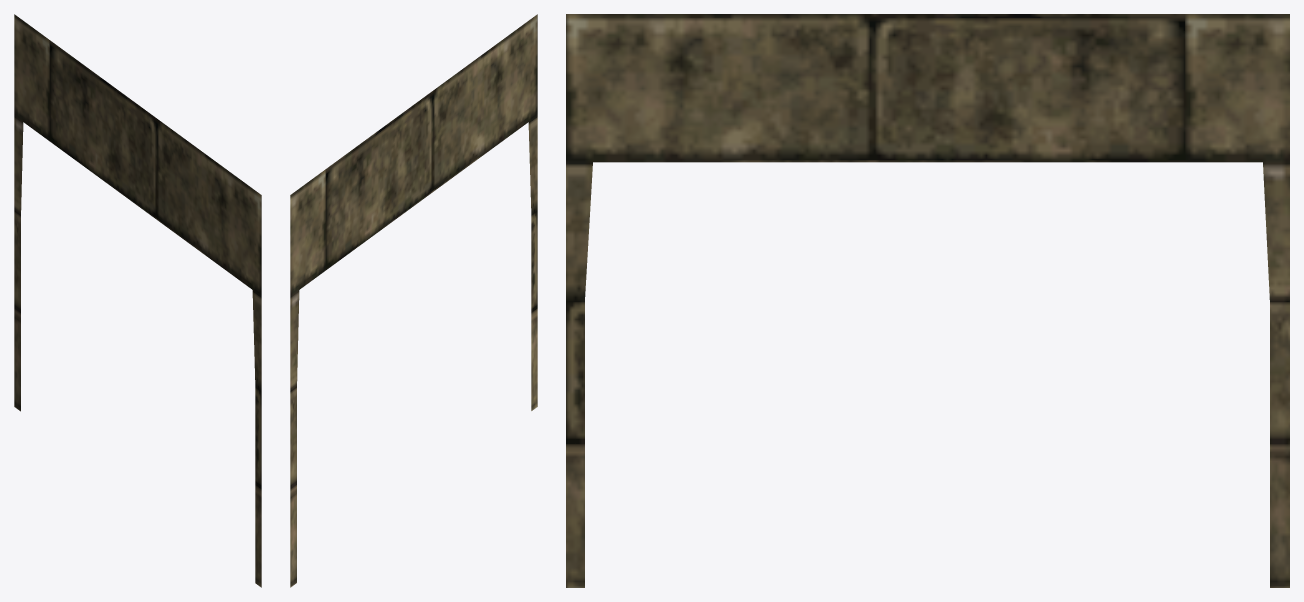
The model's file is OVERHILL_A_01_OBJECT188.fbx.
3 renders of one model, left to right at view 1: azimuth 30°, elevation 25°; view 2: azimuth 150°, elevation 25°; view 3: azimuth 270°, elevation 25°, orthographic. The views are drawn at different scales.
Visible parts, largest first — view 1: OVERHILL_A_01_OBJECT188; view 2: OVERHILL_A_01_OBJECT188; view 3: OVERHILL_A_01_OBJECT188.
Boxes of the visible parts, x1,y1,x2,y2 form: OVERHILL_A_01_OBJECT188: (14,14,261,587); OVERHILL_A_01_OBJECT188: (290,14,537,587); OVERHILL_A_01_OBJECT188: (566,14,1289,587).
Bounding box in the file's own units: 0.0488 × 34378 × 39284.
Materials: 1 (1 with a texture image).
